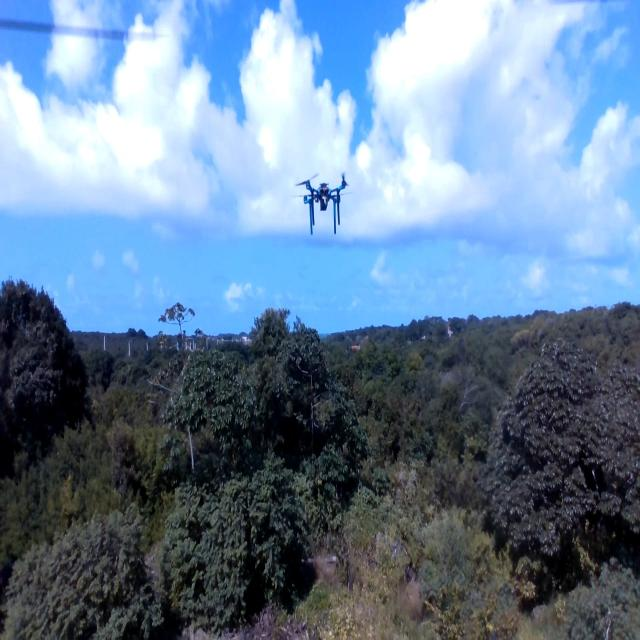-uav-: (285, 163, 353, 240)
